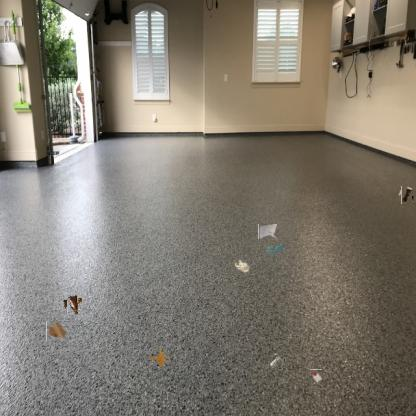dirty: (46, 321, 69, 341), (258, 223, 277, 239), (233, 258, 249, 274), (64, 296, 80, 312), (270, 354, 286, 369), (400, 188, 414, 203), (310, 369, 322, 382)
liquid: (266, 242, 286, 256), (152, 350, 168, 364)
